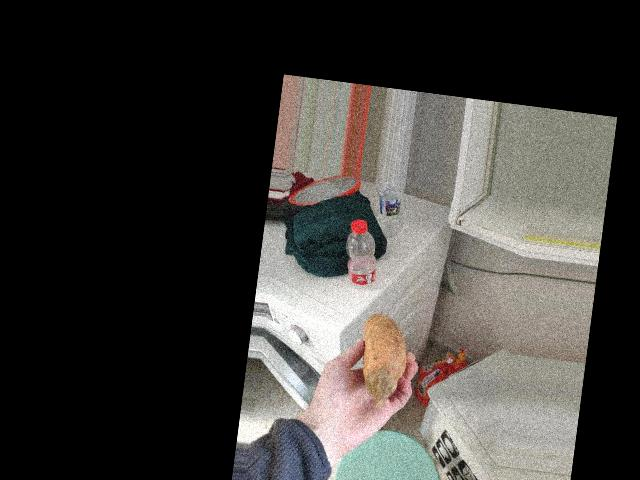sweet_potato: (349, 305, 407, 413)
